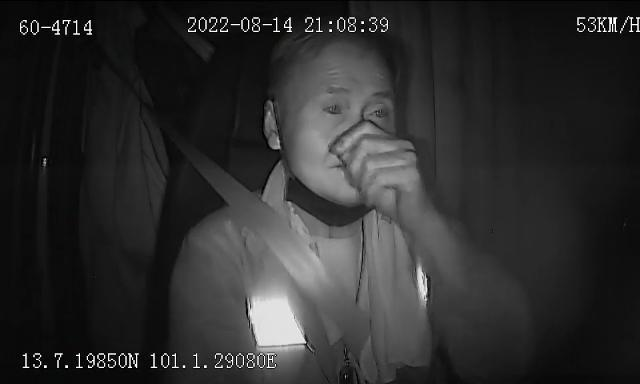SafeDriving: (362, 97, 397, 124)
Seatbelt: (169, 132, 377, 364)
